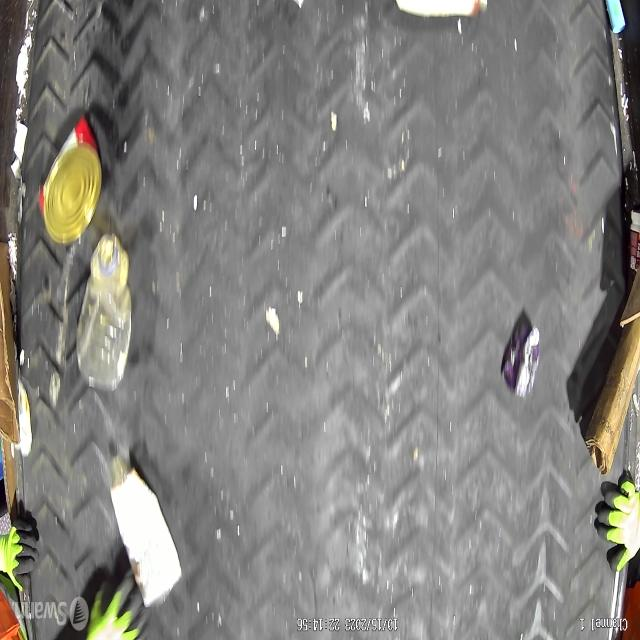can: (38, 118, 101, 244)
plastic_bottle: (74, 237, 132, 391)
